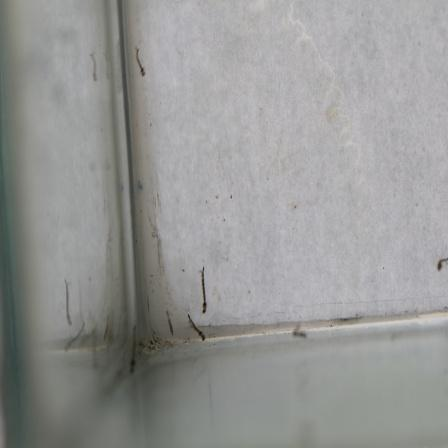Jentik-Nyamuk: (184, 313, 215, 343), (130, 43, 149, 81), (198, 263, 211, 314)
